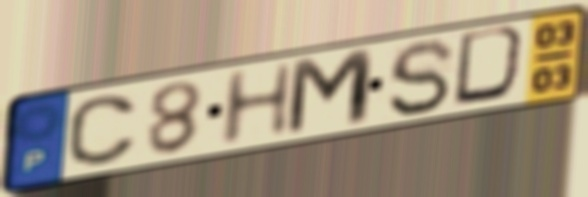8: (146, 79, 204, 158)
C: (65, 92, 142, 170)
D: (449, 22, 535, 109)
H: (215, 58, 300, 151)
M: (282, 44, 378, 141)
S: (385, 37, 459, 119)
